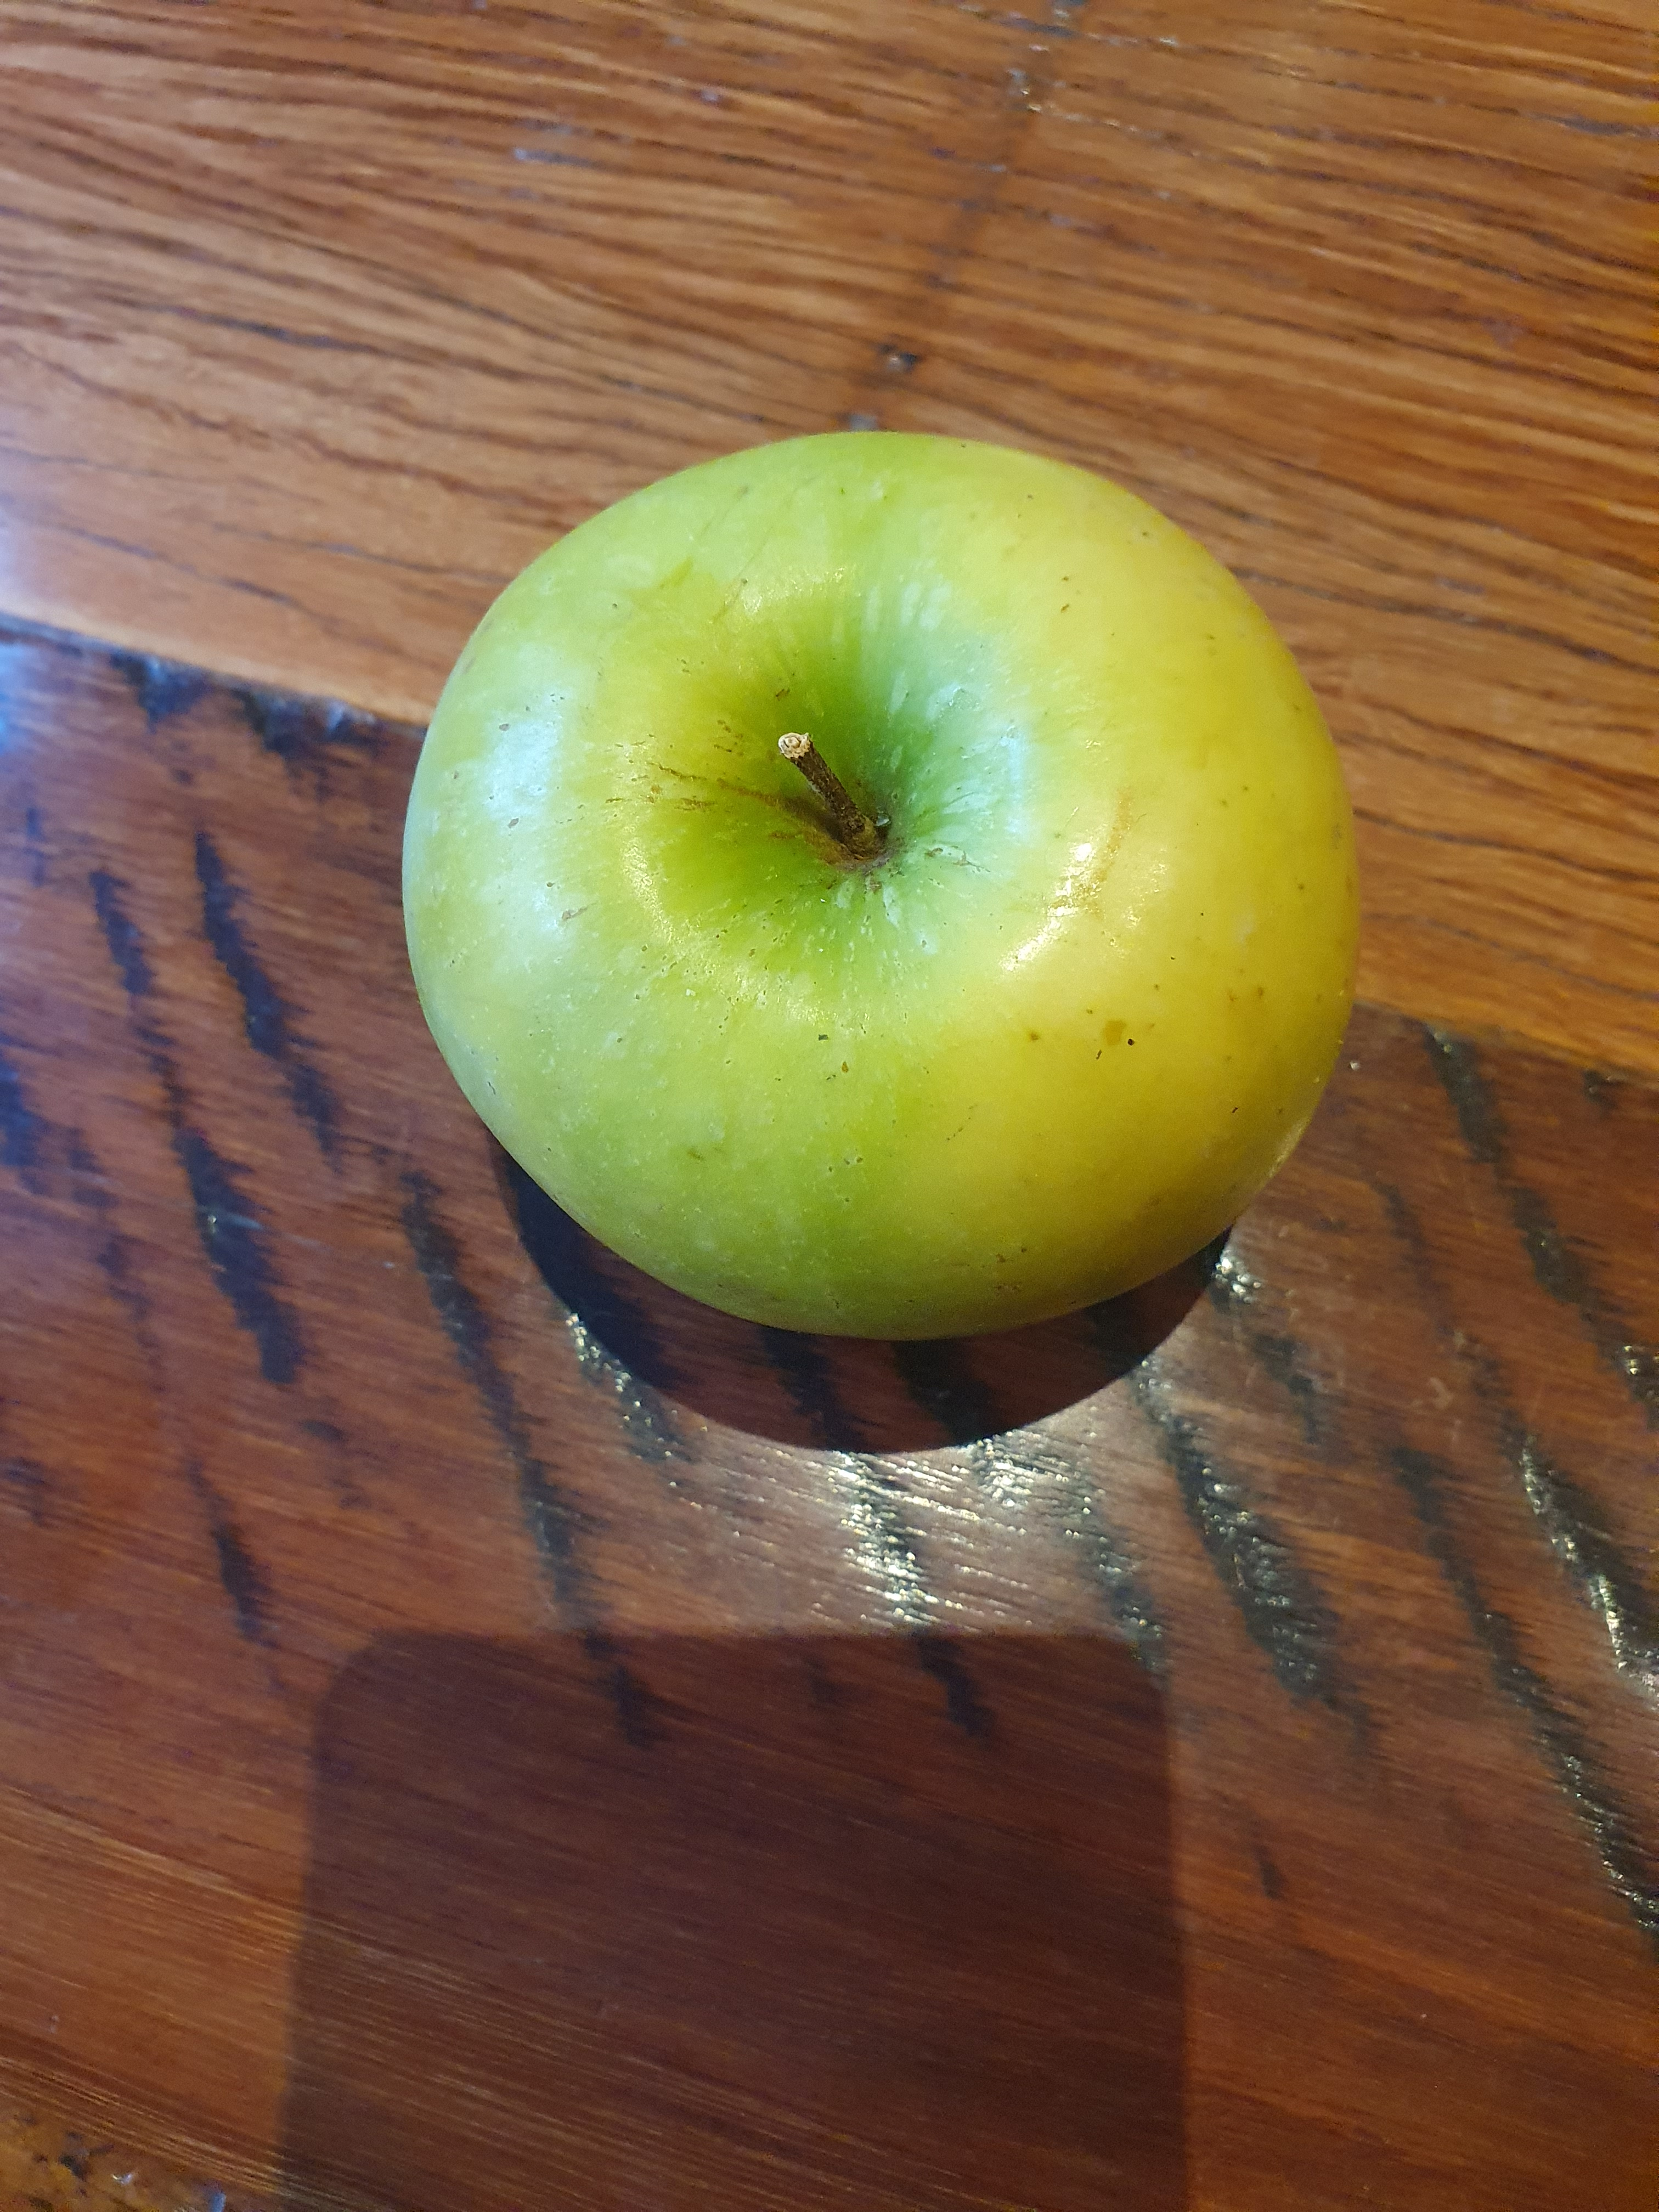green apple: (324, 421, 1373, 1360)
